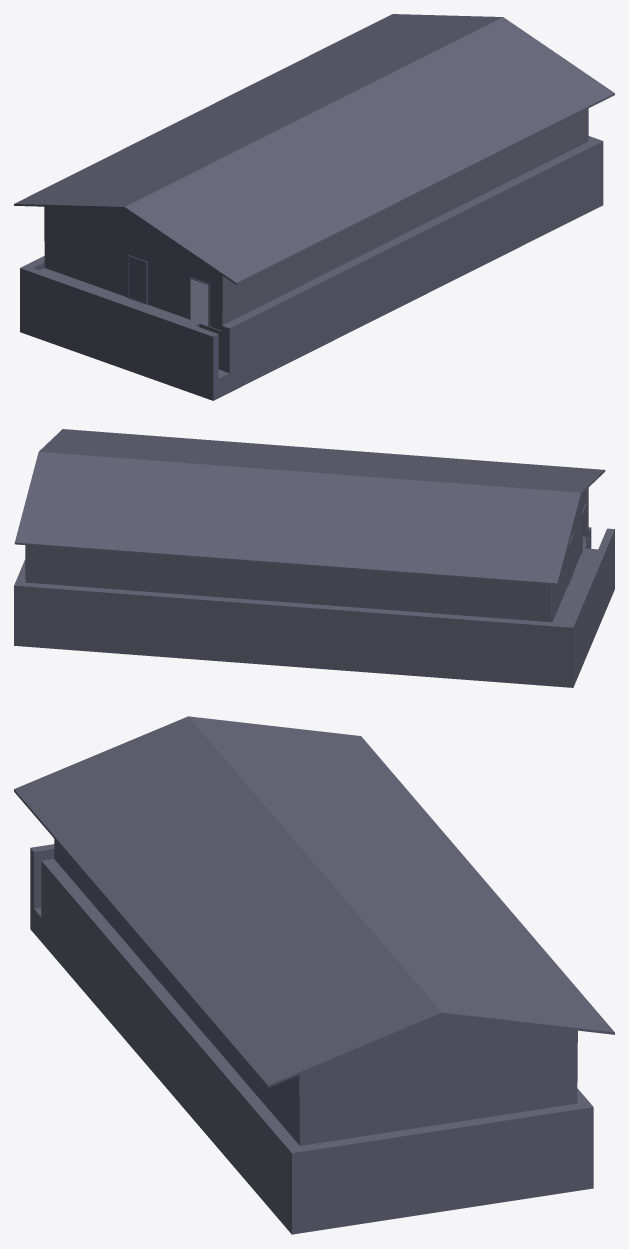
The picture shows the model from 3 angles, top to bottom: view 1: azimuth 30°, elevation 25°; view 2: azimuth 150°, elevation 25°; view 3: azimuth 270°, elevation 25°; orthographic projection. The views are drawn at different scales.
Visible parts, largest first — view 1: O棟(修); view 2: O棟(修); view 3: O棟(修).
Part boxes in pixels (x1,y1,x2,y2): O棟(修): (14,14,614,400); O棟(修): (14,429,614,687); O棟(修): (14,716,614,1234).
Bounding box in the file's own units: 30.75 × 7.99 × 22.13.
